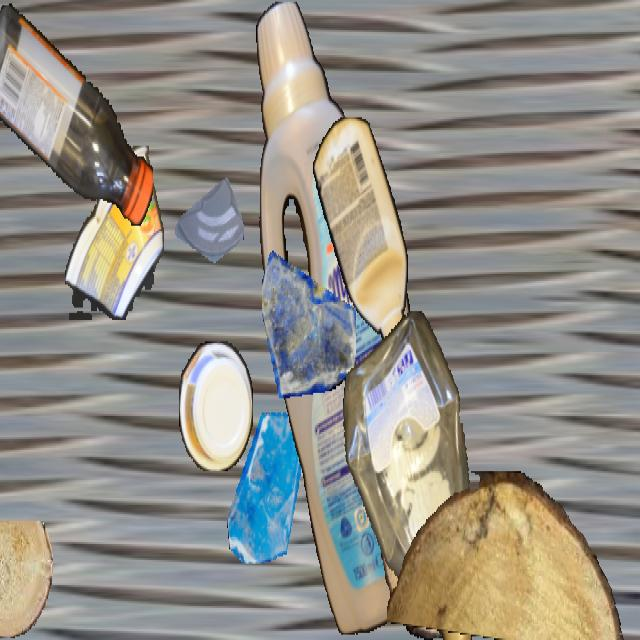glass: (262, 231, 356, 398), (225, 412, 309, 562), (175, 166, 243, 286)
metal: (377, 267, 439, 377)
plastic: (254, 2, 458, 634), (338, 311, 484, 638), (0, 2, 152, 229), (313, 117, 407, 345), (65, 146, 163, 320), (179, 342, 253, 469)
wood: (387, 471, 627, 638), (379, 450, 455, 638), (0, 521, 52, 638)
